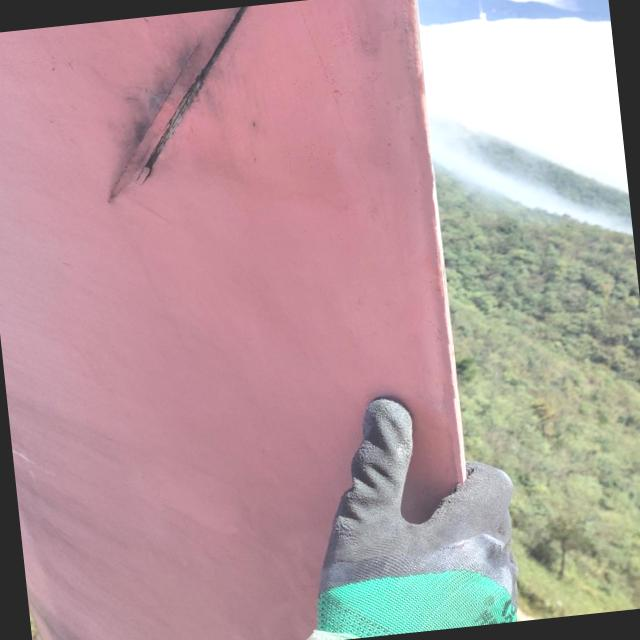crack: (98, 7, 264, 198)
